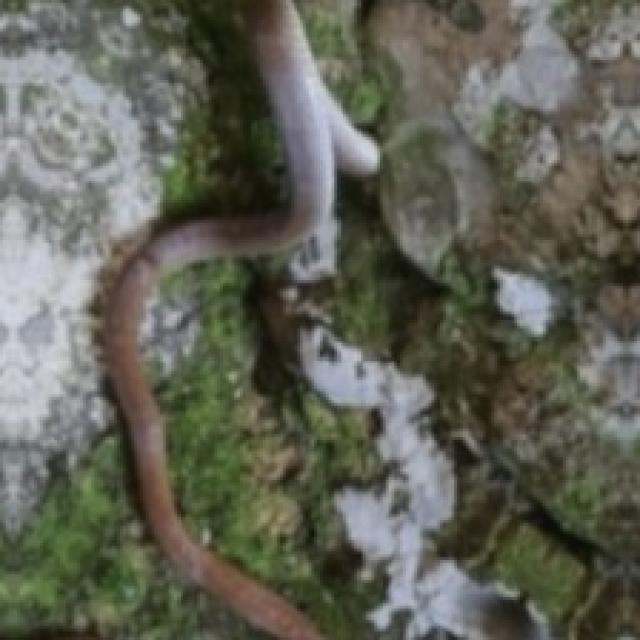reddish rat snake: (106, 0, 377, 637)
